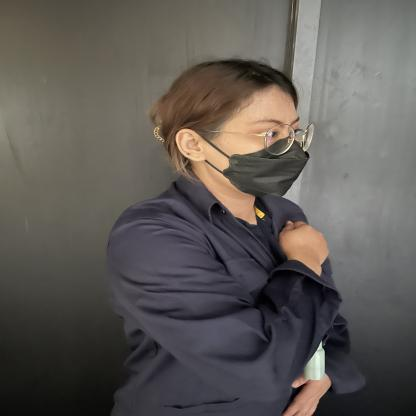Sadness: (228, 210, 358, 311)
